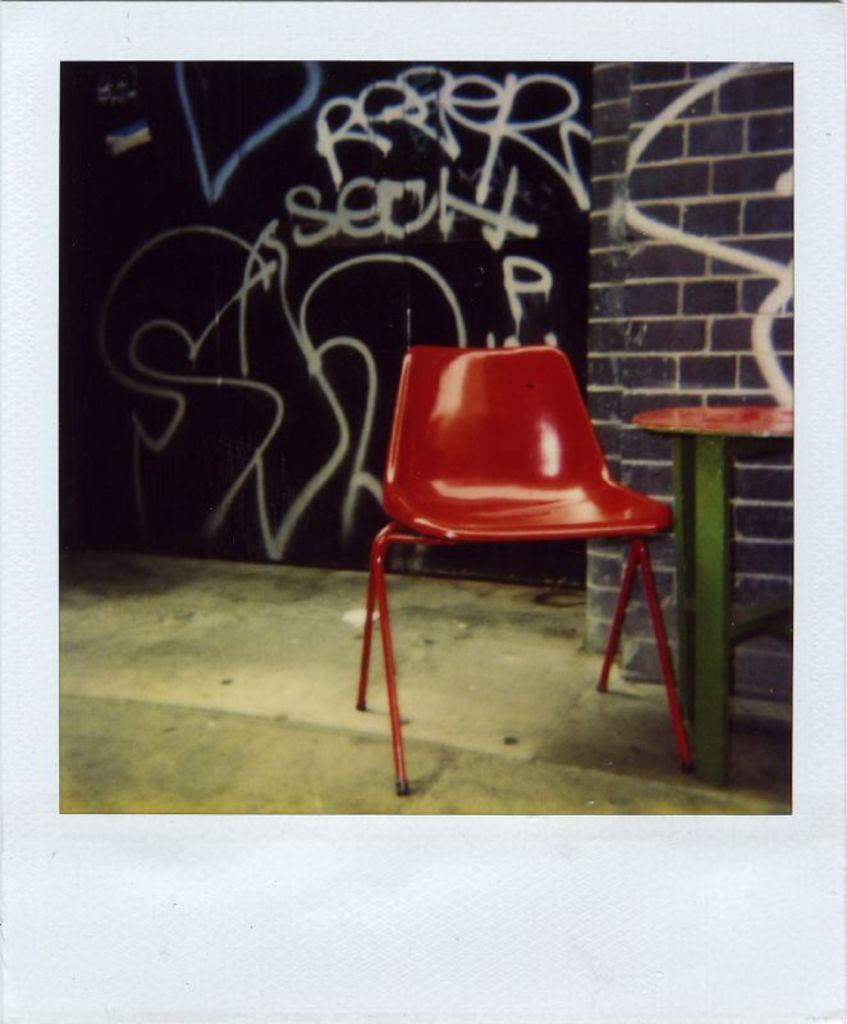Chair: (336, 252, 702, 773)
